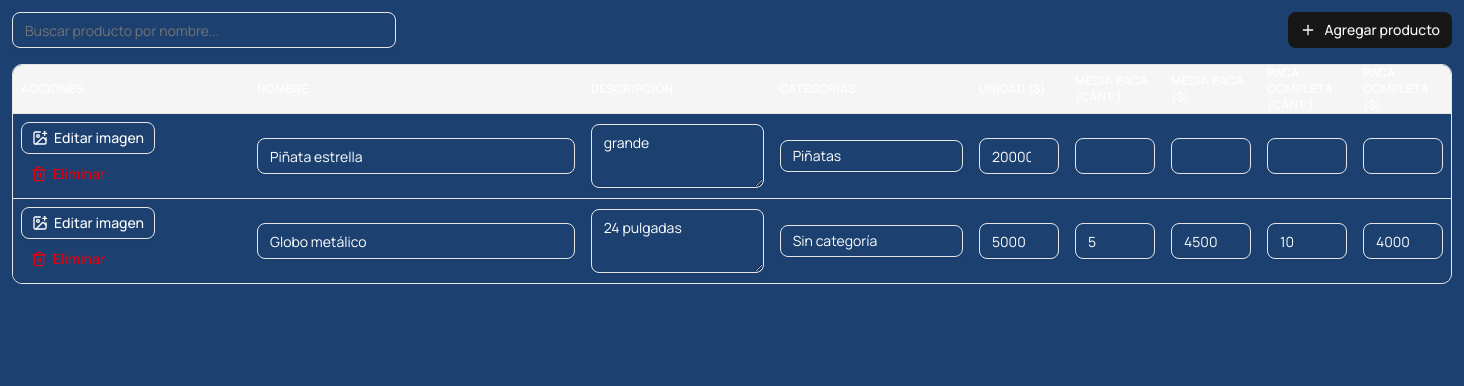
ProductEditorTable › clicking 'Agregar producto' inserts a new row at the top of the table
Click the button "Agregar producto" at [1370, 30], box [1288,12,1452,48]
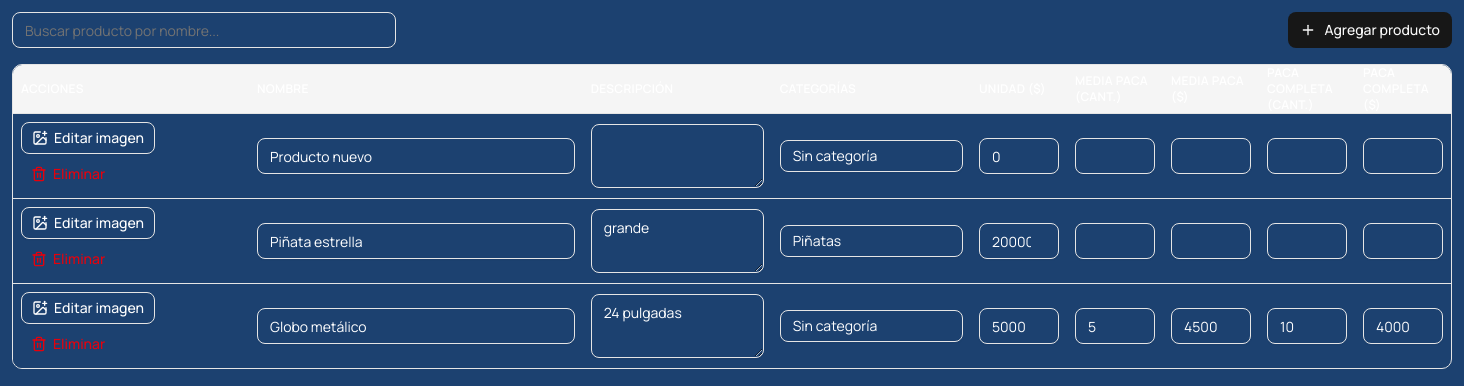
Expected: the 1st field showing "Producto nuevo" is shown, [257,138,575,174]
